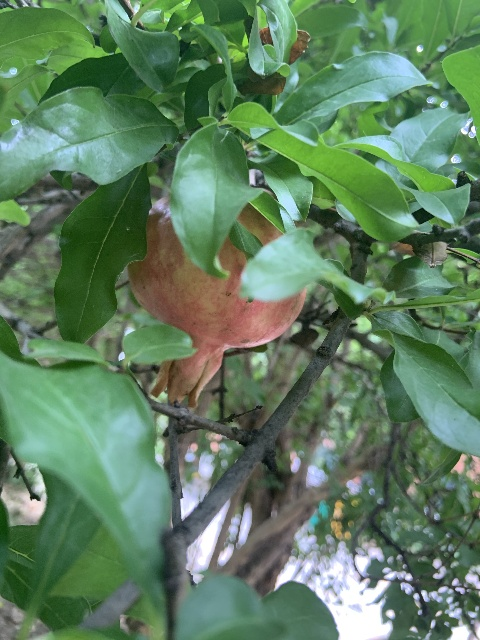ripe: (128, 193, 306, 410)
